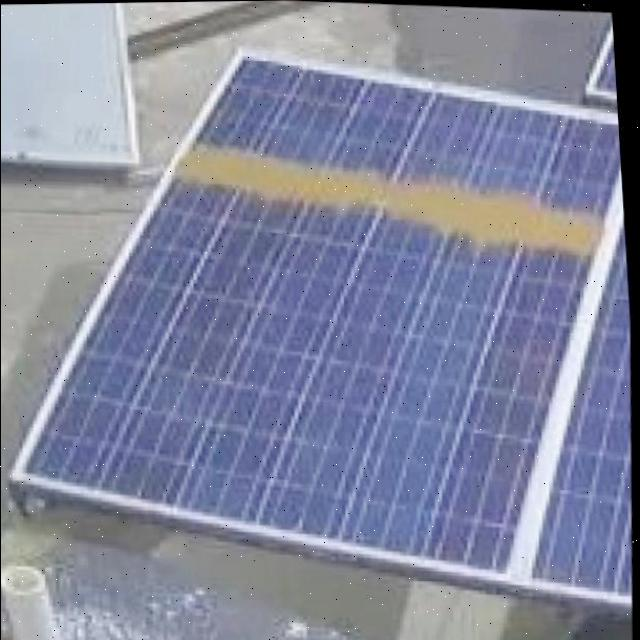Anomaly Solar Panel: (21, 0, 626, 630)
Surface Contaminant: (179, 134, 610, 258)
